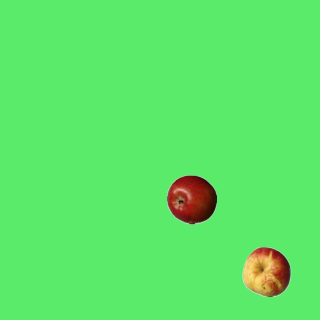Apple Braeburn: (166, 174, 216, 224)
Apple Red Yellow 1: (241, 246, 291, 296)
